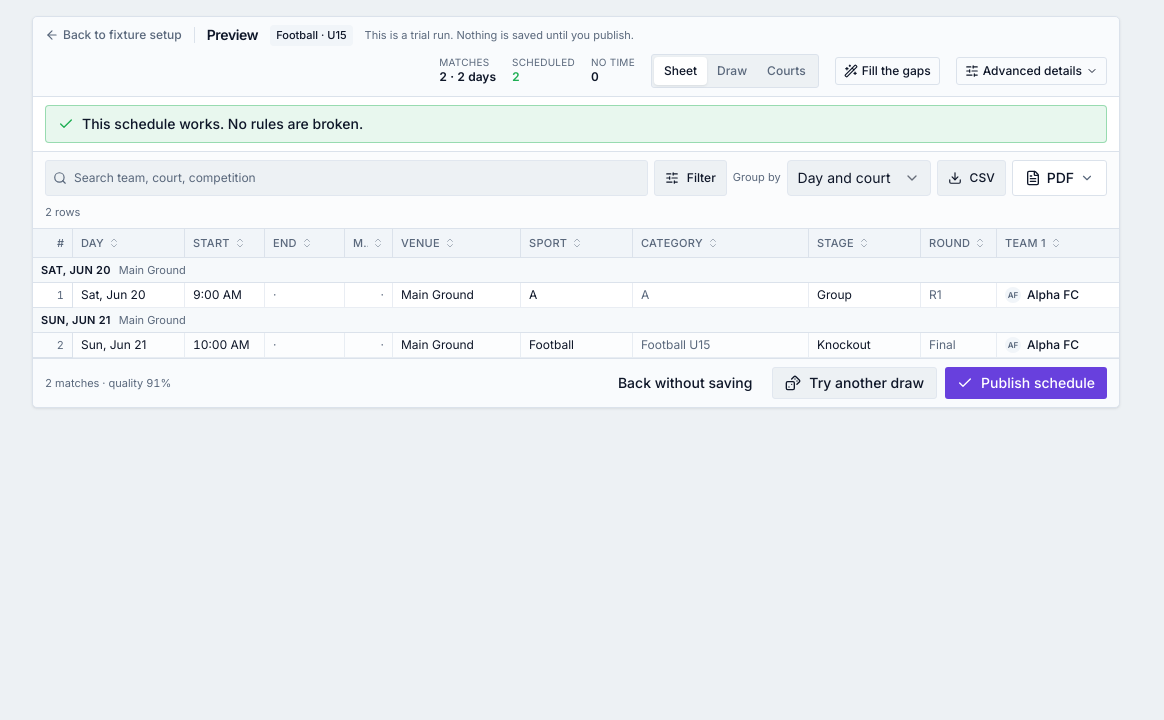
Test case: DryRunPreviewPage › publishing toasts in plain words
Click the button with test id "accept-preview" at (1026, 383), box [945,367,1107,399]
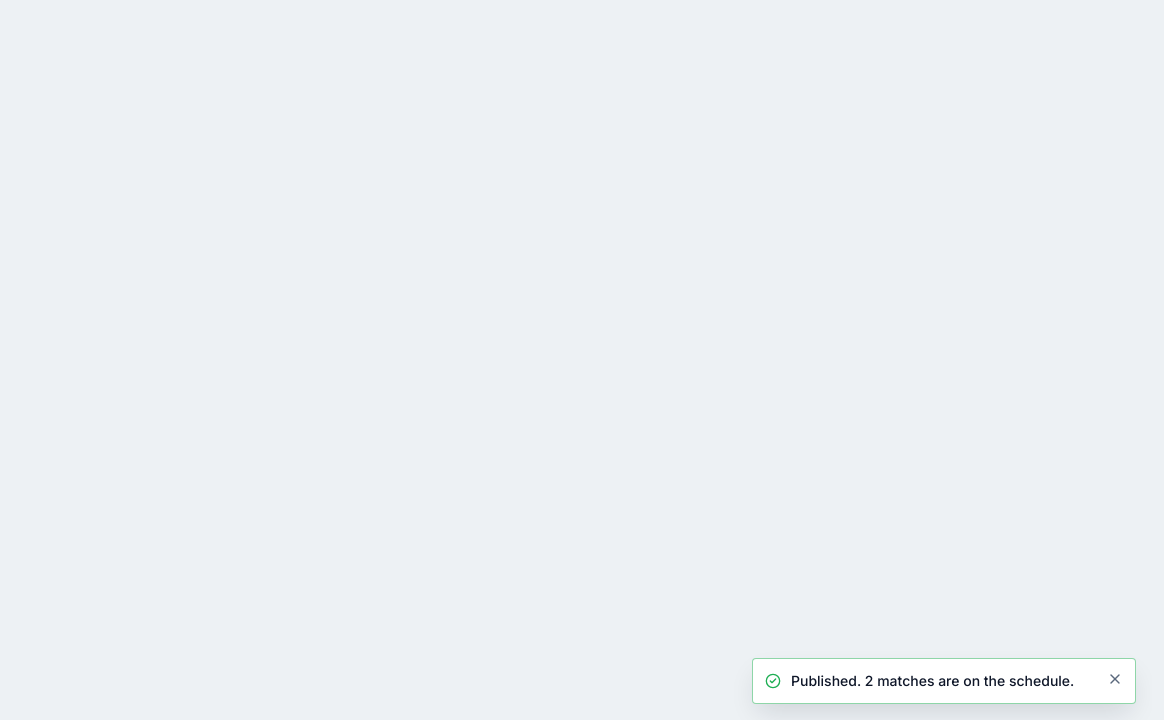
Result: the text "Published. 2 matches are on the schedule." is shown at [791,671,1097,691]
